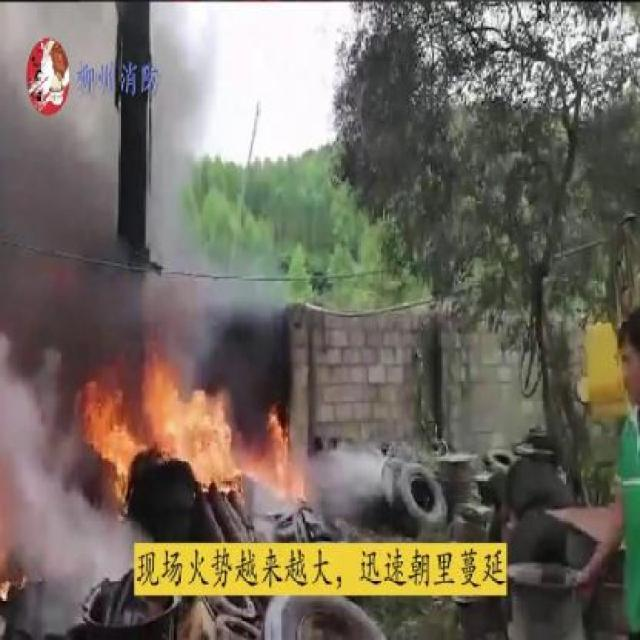Fire: (152, 362, 243, 490), (84, 376, 144, 473), (264, 404, 290, 488)
Smoke: (2, 352, 92, 585), (162, 261, 287, 417), (236, 290, 287, 419), (312, 444, 390, 507)
